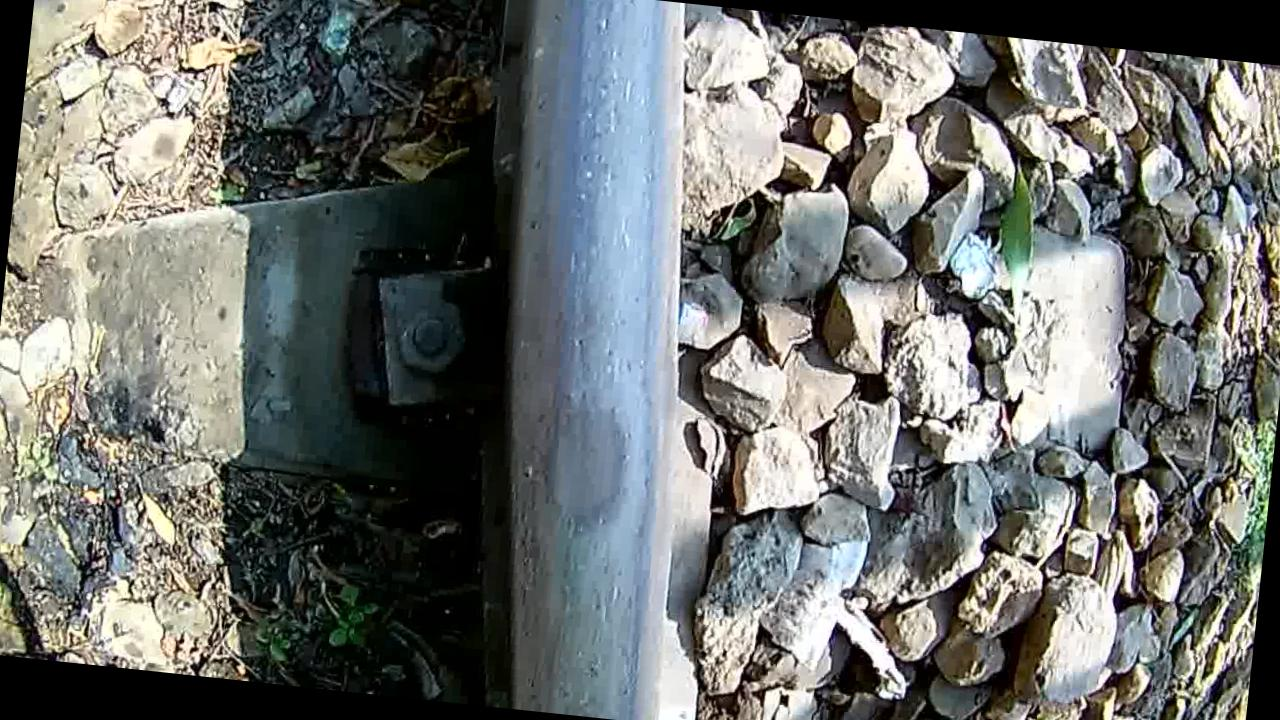bolt_missing: (452, 5, 701, 720)
